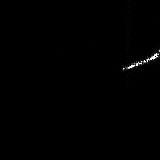ship: (121, 44, 160, 72)
